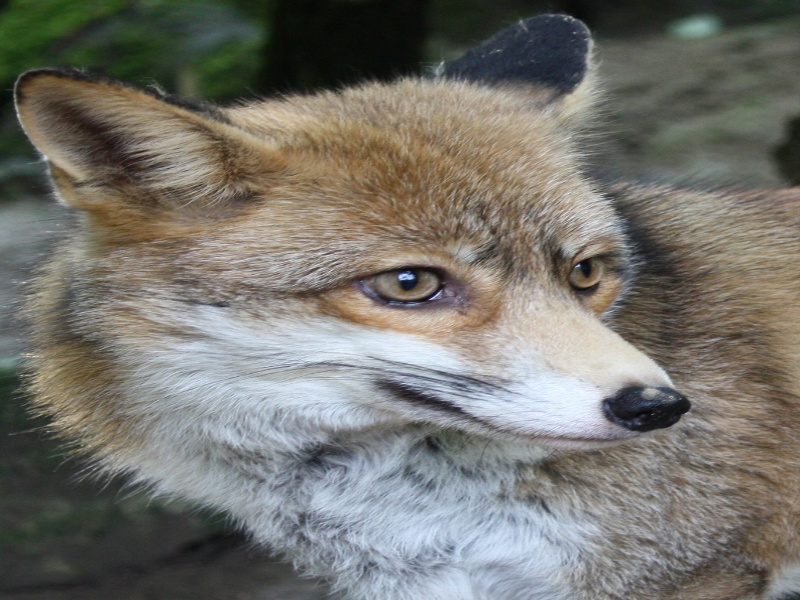fox: (7, 1, 800, 589)
